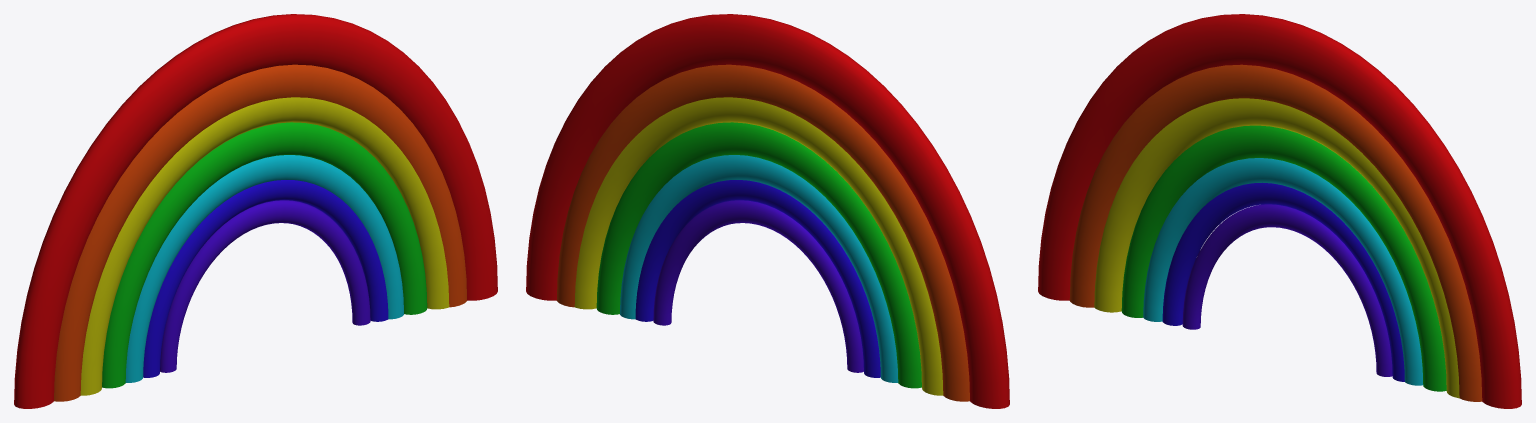
Rendered from rainbow.FBX.
3 views of the same model, side by side, from view 1: azimuth 30°, elevation 25°; view 2: azimuth 150°, elevation 25°; view 3: azimuth 330°, elevation 25° (orthographic).
Parts seen in each view (by area): view 1: Cylinder007, Cylinder006, Cylinder004, Cylinder005, Cylinder003, Cylinder002, Cylinder001; view 2: Cylinder007, Cylinder006, Cylinder004, Cylinder005, Cylinder003, Cylinder002, Cylinder001; view 3: Cylinder007, Cylinder006, Cylinder004, Cylinder005, Cylinder003, Cylinder002, Cylinder001.
Boxes of the visible parts, x1=… form: Cylinder007: x1=14, y1=14, x2=497, y2=408; Cylinder006: x1=54, y1=64, x2=467, y2=401; Cylinder004: x1=102, y1=122, x2=427, y2=388; Cylinder005: x1=80, y1=97, x2=449, y2=395; Cylinder003: x1=125, y1=155, x2=403, y2=382; Cylinder002: x1=143, y1=180, x2=388, y2=377; Cylinder001: x1=160, y1=200, x2=370, y2=372; Cylinder007: x1=526, y1=14, x2=1009, y2=408; Cylinder006: x1=556, y1=64, x2=969, y2=401; Cylinder004: x1=596, y1=122, x2=921, y2=388; Cylinder005: x1=574, y1=97, x2=943, y2=395; Cylinder003: x1=620, y1=155, x2=898, y2=382; Cylinder002: x1=635, y1=180, x2=880, y2=377; Cylinder001: x1=653, y1=200, x2=863, y2=372; Cylinder007: x1=1038, y1=14, x2=1521, y2=408; Cylinder006: x1=1069, y1=64, x2=1482, y2=401; Cylinder004: x1=1121, y1=125, x2=1446, y2=391; Cylinder005: x1=1094, y1=98, x2=1459, y2=398; Cylinder003: x1=1143, y1=158, x2=1423, y2=385; Cylinder002: x1=1162, y1=182, x2=1404, y2=381; Cylinder001: x1=1182, y1=204, x2=1392, y2=376.
Size of the model in its own units: 105 by 68.6 by 5.73.
